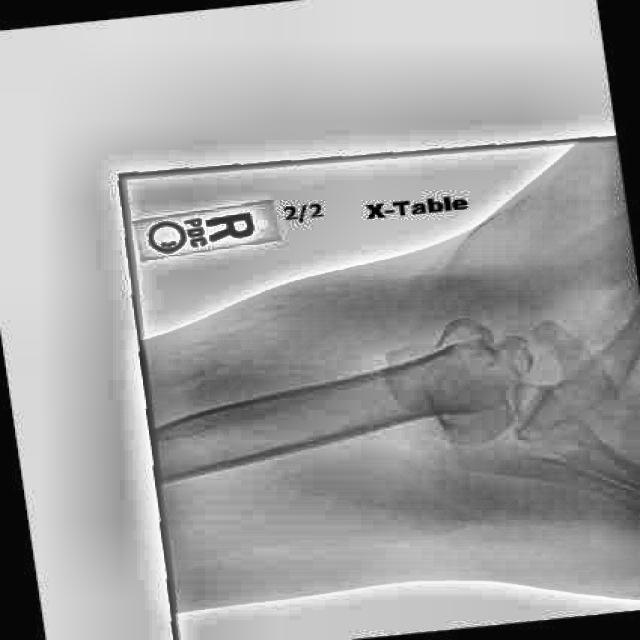shoulder fracture: (399, 295, 521, 387)
